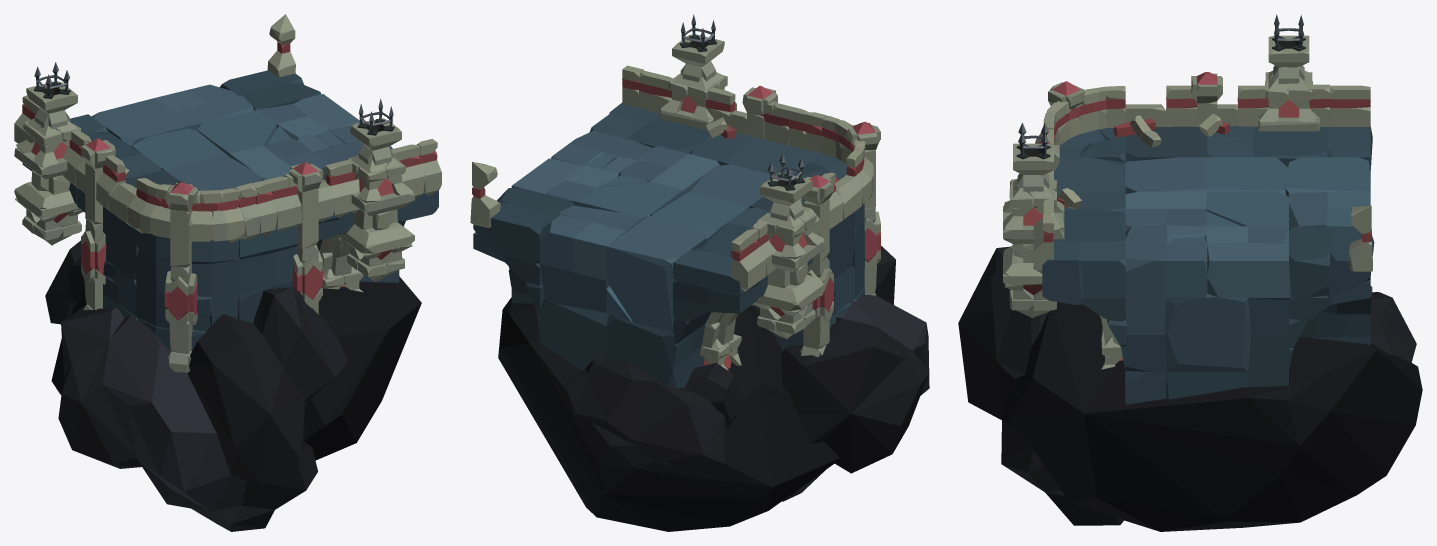
File: hallway_L_01.fbx
3 views of the same model, side by side, from view 1: azimuth 30°, elevation 25°; view 2: azimuth 150°, elevation 25°; view 3: azimuth 270°, elevation 25° (orthographic). The views are drawn at different scales.
Parts seen in each view (by area): view 1: hallway_L_01; view 2: hallway_L_01; view 3: hallway_L_01.
Boxes of the visible parts, left/top/right/bottom form: hallway_L_01: left=14, top=14, right=441, bottom=531; hallway_L_01: left=470, top=14, right=929, bottom=531; hallway_L_01: left=958, top=14, right=1422, bottom=531.
Bounding box in the file's own units: 1056 × 1216 × 1136.
